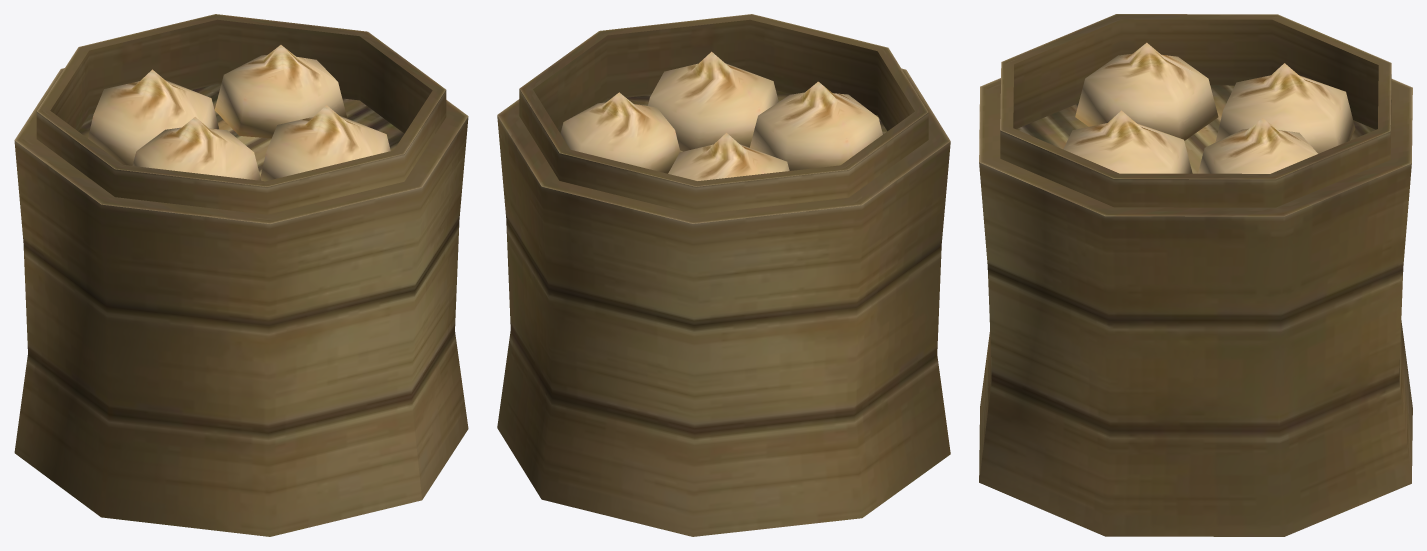
3 renders of one model, left to right at view 1: azimuth 30°, elevation 25°; view 2: azimuth 150°, elevation 25°; view 3: azimuth 270°, elevation 25°, orthographic. The views are drawn at different scales.
Size of the model in its own units: 0.8164 by 0.7634 by 0.8164.
Materials: 2 (2 with a texture image).
